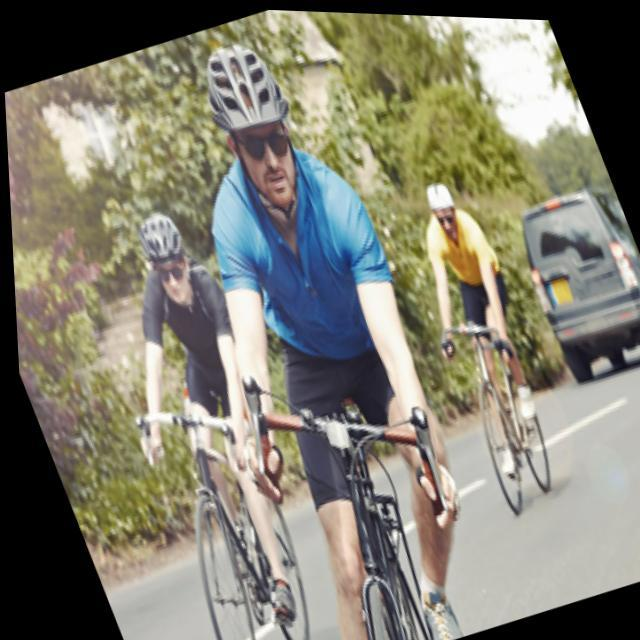Helmet: (203, 42, 316, 219)
